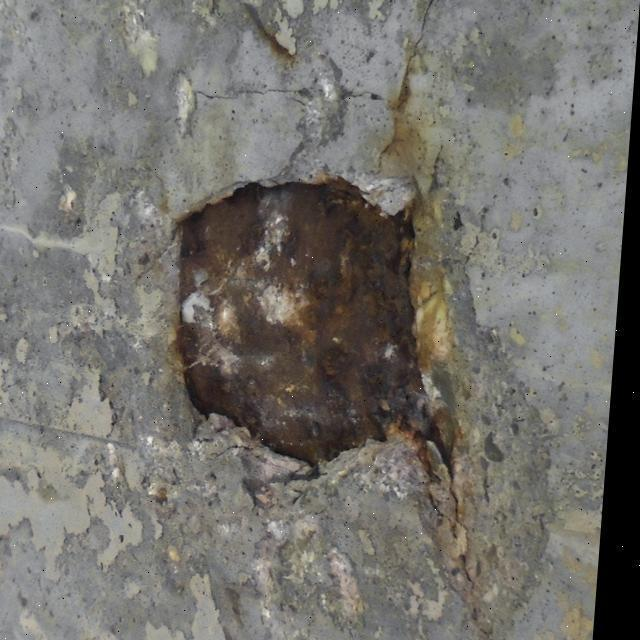D10: (174, 174, 457, 485)
